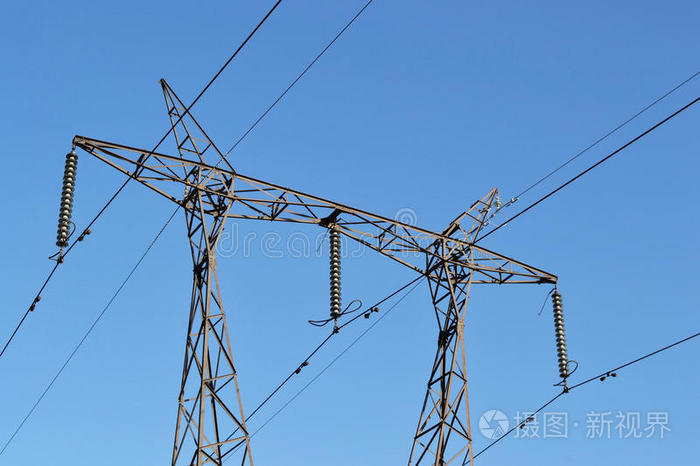insulator: (56, 154, 79, 245), (552, 290, 571, 378), (328, 228, 342, 316)
